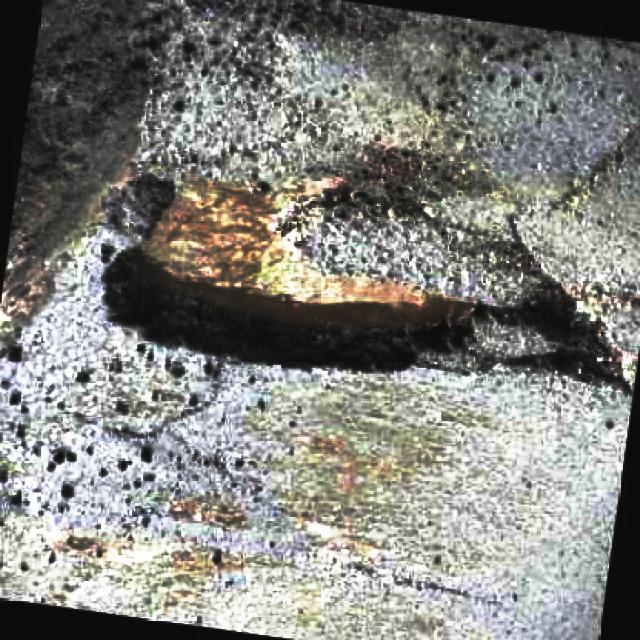pothole: (90, 156, 624, 390)
